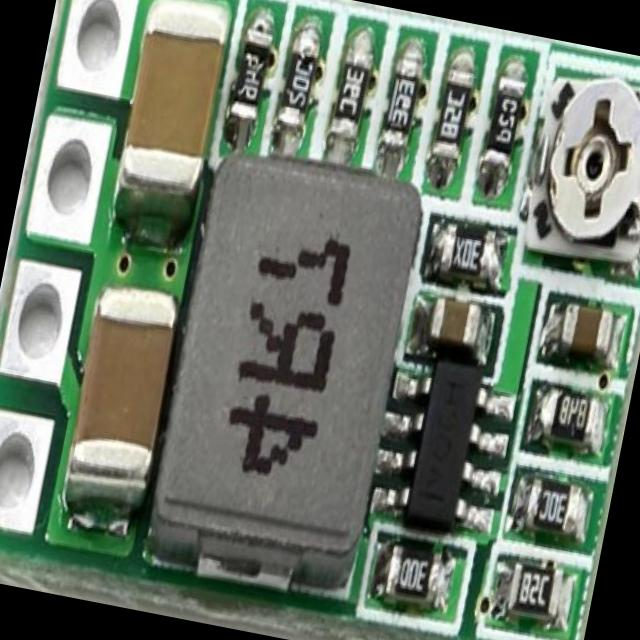IC: (376, 348, 507, 534)
capacitor: (56, 274, 182, 535), (109, 0, 238, 216), (552, 296, 620, 364), (423, 290, 486, 349)
potentiometer: (516, 68, 640, 269)
resistor: (218, 19, 276, 136), (272, 26, 326, 142), (425, 65, 479, 178), (326, 43, 379, 149), (369, 536, 446, 608), (377, 52, 428, 160), (478, 72, 528, 176), (519, 470, 583, 540), (435, 216, 502, 282), (504, 558, 572, 622), (537, 389, 603, 450)
